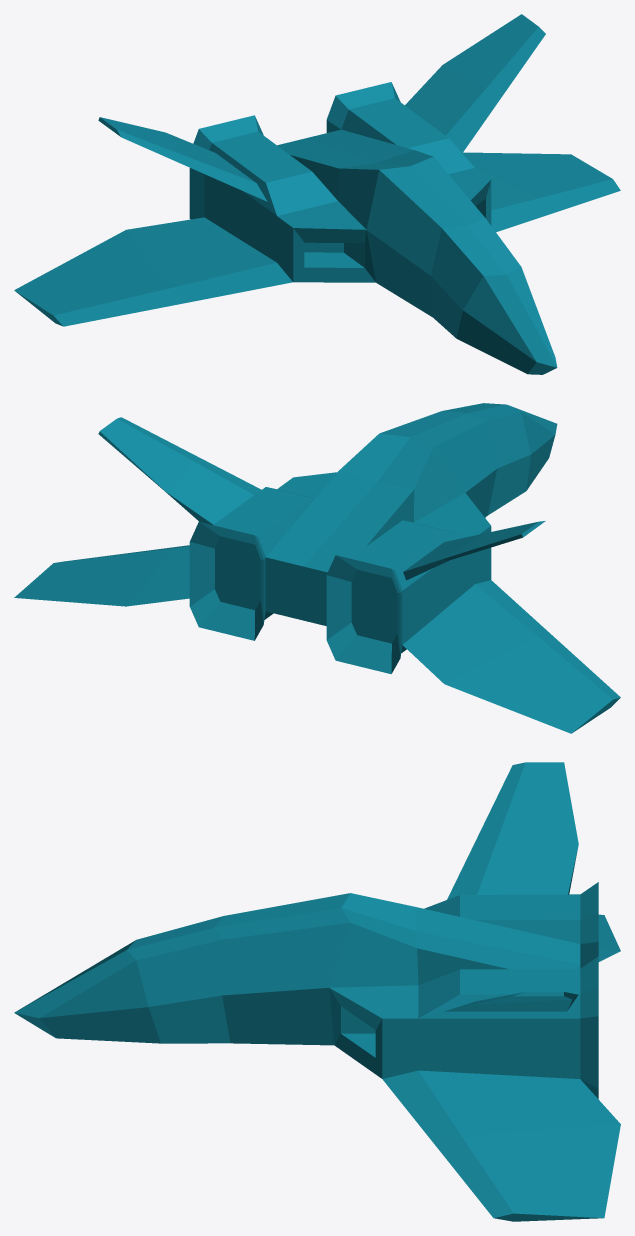
The model's file is spaceship.obj.
3 views of the same model, one above another, from view 1: azimuth 30°, elevation 25°; view 2: azimuth 150°, elevation 25°; view 3: azimuth 270°, elevation 25° (orthographic). The views are drawn at different scales.
Parts seen in each view (by area): view 1: Cube; view 2: Cube; view 3: Cube.
Boxes of the visible parts, x1=… form: Cube: x1=14, y1=14, x2=620, y2=374; Cube: x1=14, y1=403, x2=620, y2=733; Cube: x1=14, y1=762, x2=620, y2=1221.
Size of the model in its own units: 5.65 by 1.68 by 4.76.
